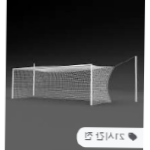goals: (11, 63, 116, 108)
